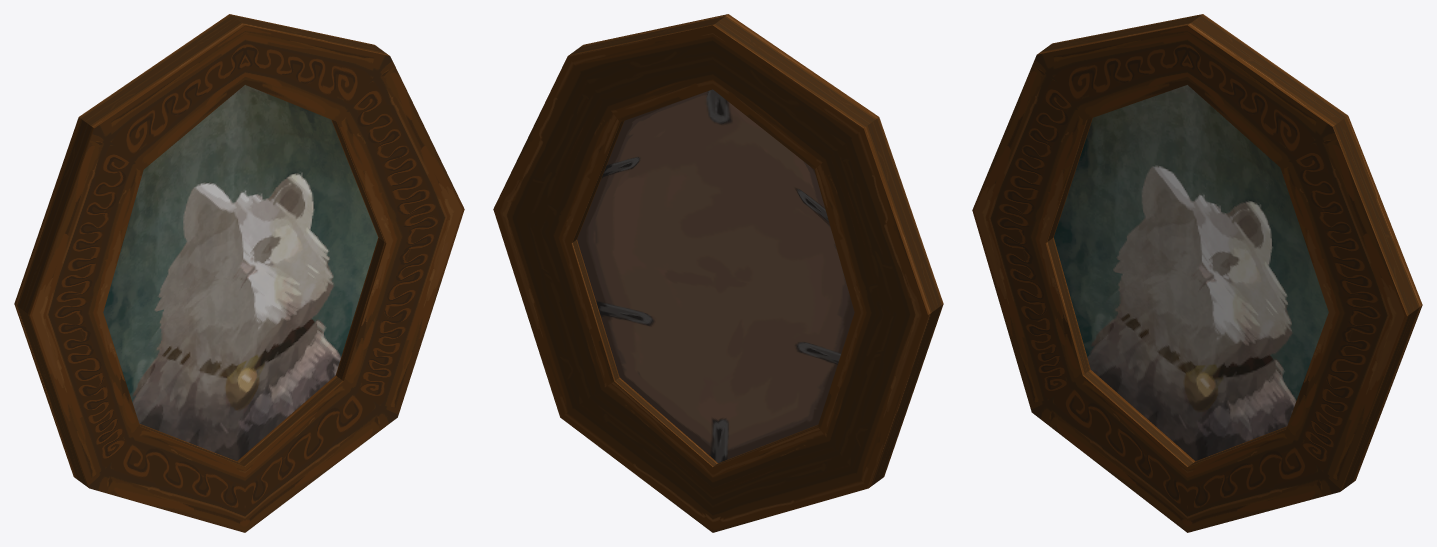
The model's file is SM_PROP_painting_interior_07.fbx.
3 views of the same model, side by side, from view 1: azimuth 30°, elevation 25°; view 2: azimuth 150°, elevation 25°; view 3: azimuth 330°, elevation 25° (orthographic).
Parts seen in each view (by area): view 1: SM_PROP_painting_interior_07; view 2: SM_PROP_painting_interior_07; view 3: SM_PROP_painting_interior_07.
Part boxes in pixels (x1,y1,x2,y2): SM_PROP_painting_interior_07: (14,14,464,532); SM_PROP_painting_interior_07: (493,14,943,532); SM_PROP_painting_interior_07: (972,14,1422,532).
Size of the model in its own units: 36.07 by 40.24 by 2.25.
